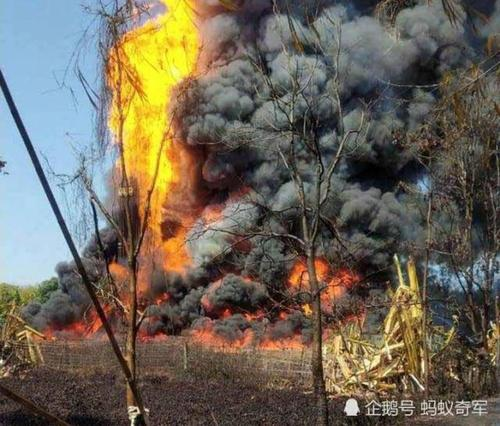fire: (113, 12, 198, 353)
smoke: (213, 5, 454, 251)
